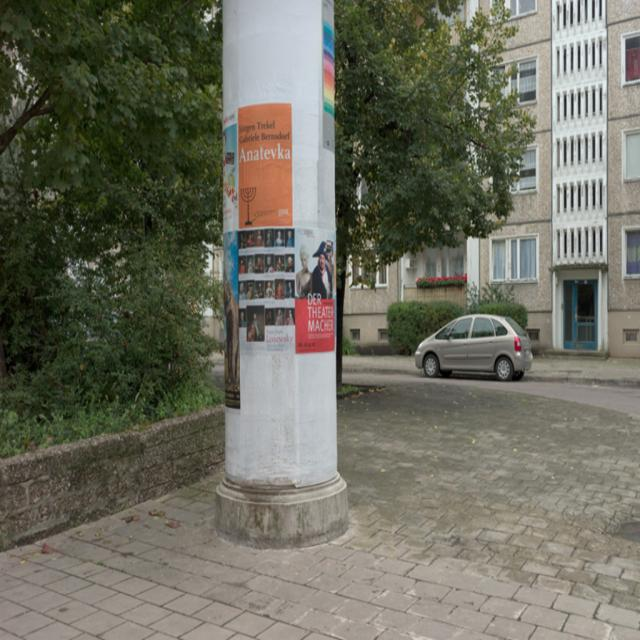car: (413, 316, 532, 379)
